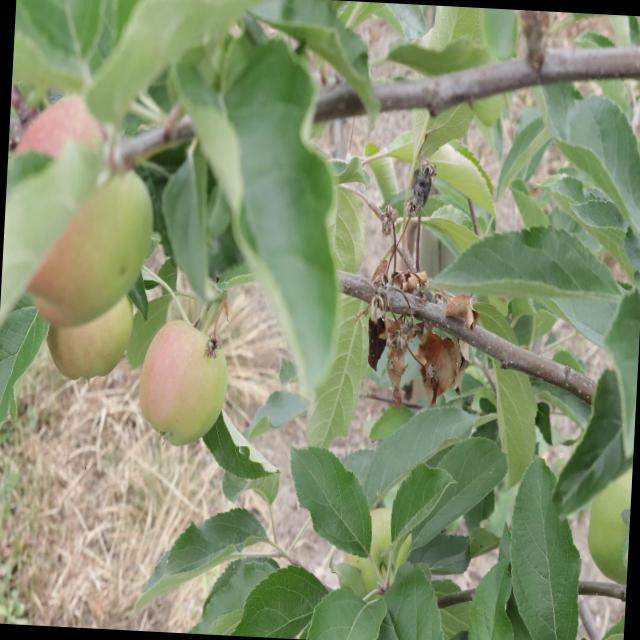-FireBlight-: (364, 218, 482, 409)
